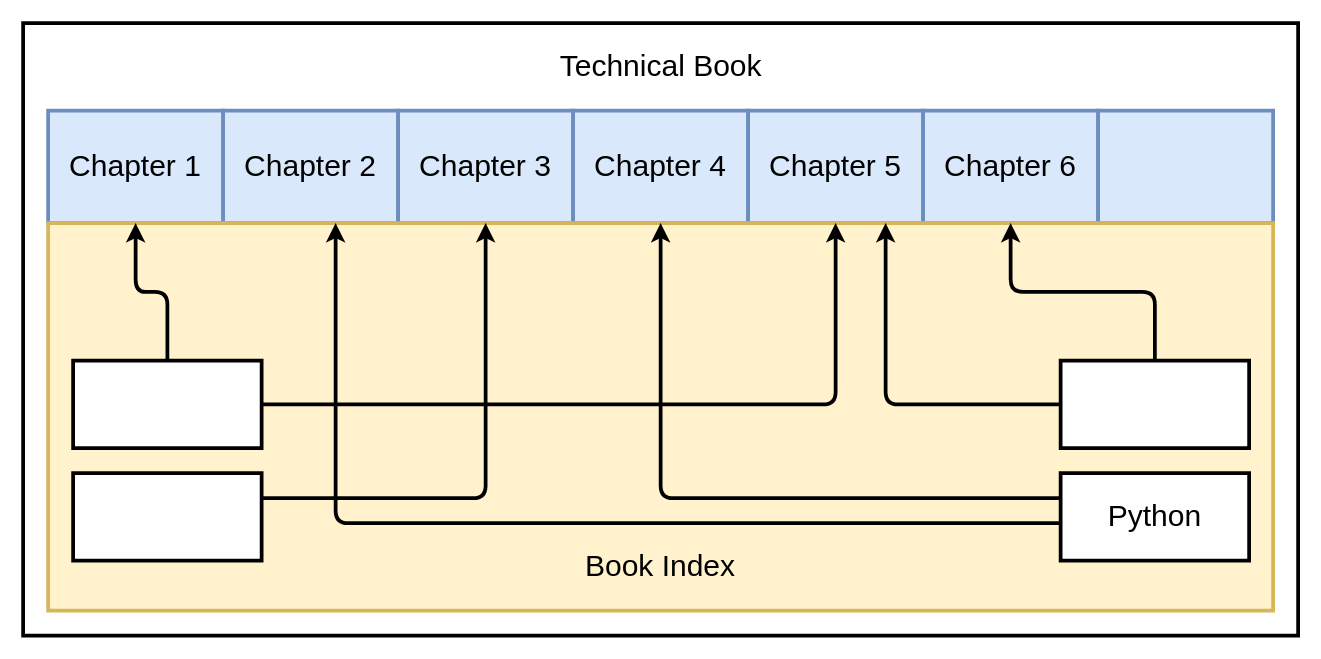
Some shapes in this 1321 by 659 pixel diagram are drawn without their labels. Each missing label, with the centre of its shape:
"Chapter 7" goes at (1185,166).
"Database" goes at (167,403).
"Editors" goes at (167,516).
"Files" goes at (1154,403).
